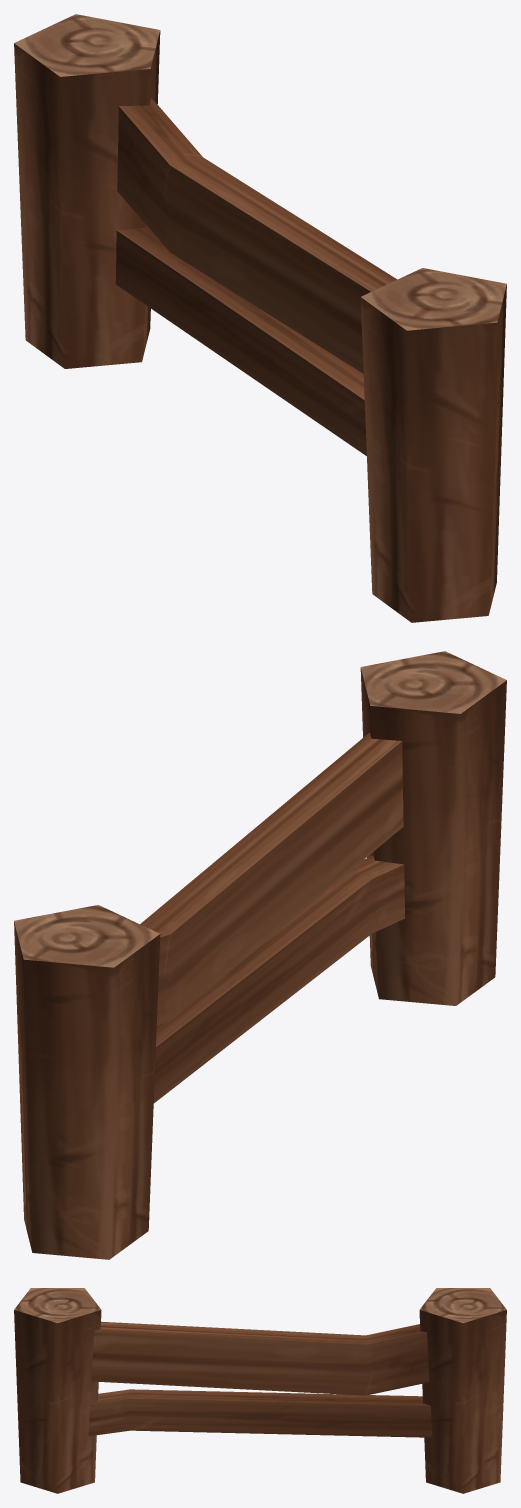
File: fence.FBX
The picture shows the model from 3 angles, top to bottom: view 1: azimuth 30°, elevation 25°; view 2: azimuth 150°, elevation 25°; view 3: azimuth 270°, elevation 25°; orthographic projection. The views are drawn at different scales.
Parts seen in each view (by area): view 1: fence; view 2: fence; view 3: fence.
Boxes of the visible parts, <box> form: fence: <box>14,14,506,622</box>; fence: <box>14,651,506,1259</box>; fence: <box>14,1288,506,1493</box>.
Size of the model in its own units: 119 by 274 by 706.
Materials: 1 (1 with a texture image).
